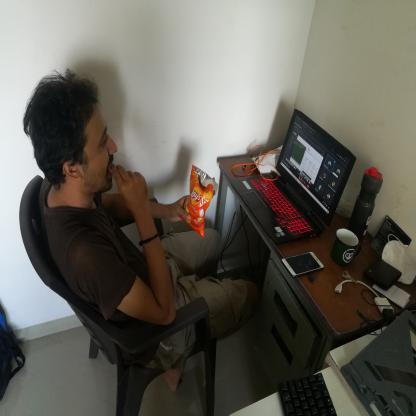hot_and_sweet: (182, 164, 215, 246)
